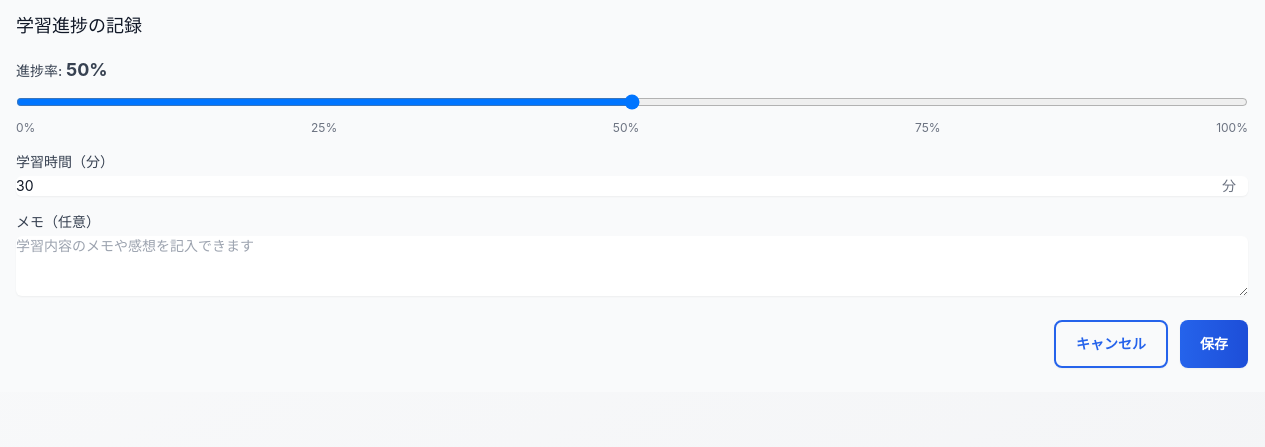
Scenario: ManualProgressForm › shows completion message when progress is 100%
The image size is (1265, 447).
Set the slider to "100" at (1240, 102), box [16,94,1248,110]
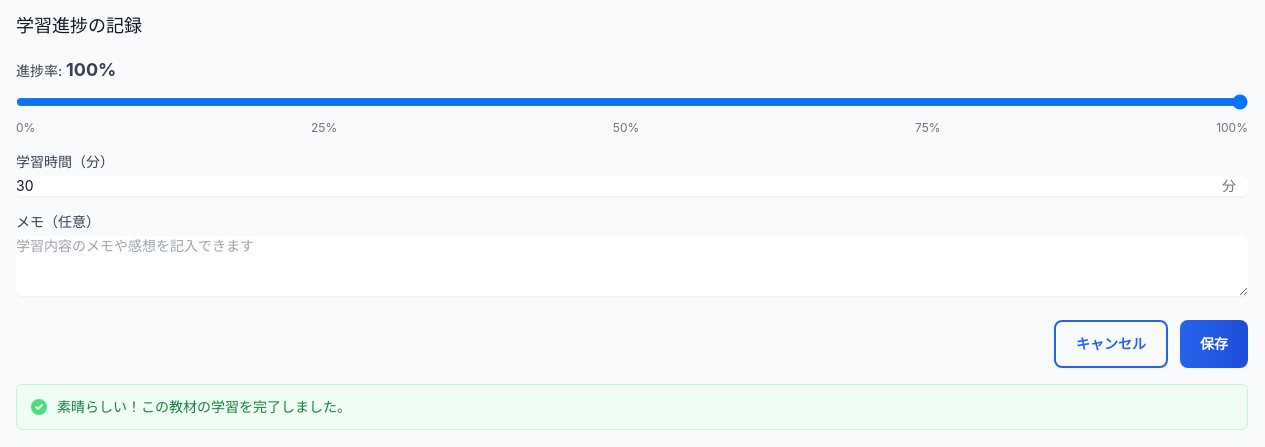
Now the text "素晴らしい！この教材の学習を完了しました。" is shown, box [57,397,351,417]
